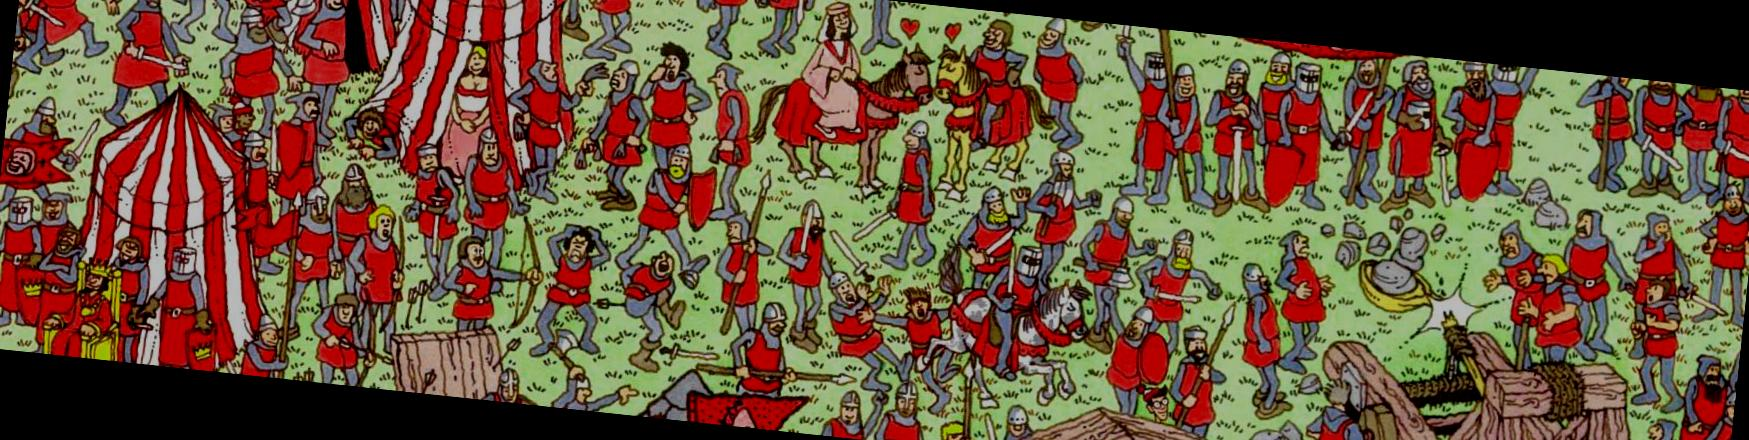waldo: (1134, 382, 1170, 421)
